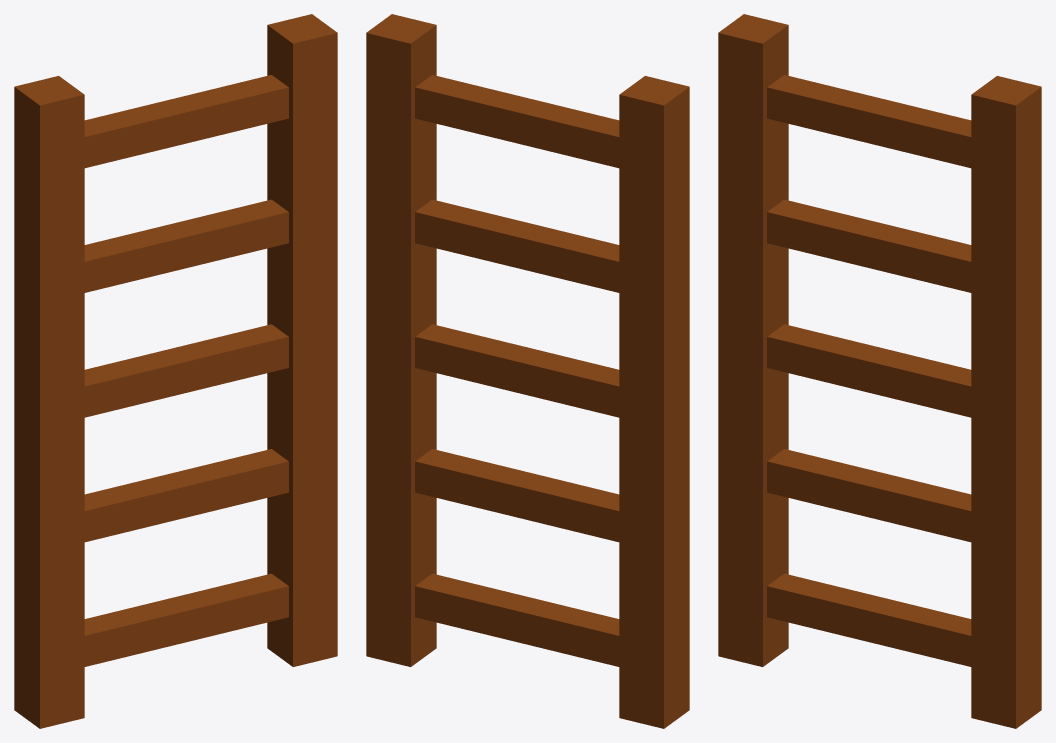
The model's file is Proto_Ladder_Wooden_02.fbx.
The picture shows the model from 3 angles, left to right: view 1: azimuth 30°, elevation 25°; view 2: azimuth 150°, elevation 25°; view 3: azimuth 330°, elevation 25°; orthographic projection.
Visible parts, largest first — view 1: Proto_Ladder_Wooden_02; view 2: Proto_Ladder_Wooden_02; view 3: Proto_Ladder_Wooden_02.
Part boxes in pixels (x1,y1,x2,y2): Proto_Ladder_Wooden_02: (14, 14, 337, 728); Proto_Ladder_Wooden_02: (366, 14, 689, 728); Proto_Ladder_Wooden_02: (718, 14, 1041, 728).
Bounding box in the file's own units: 0.5 × 1 × 0.075.
